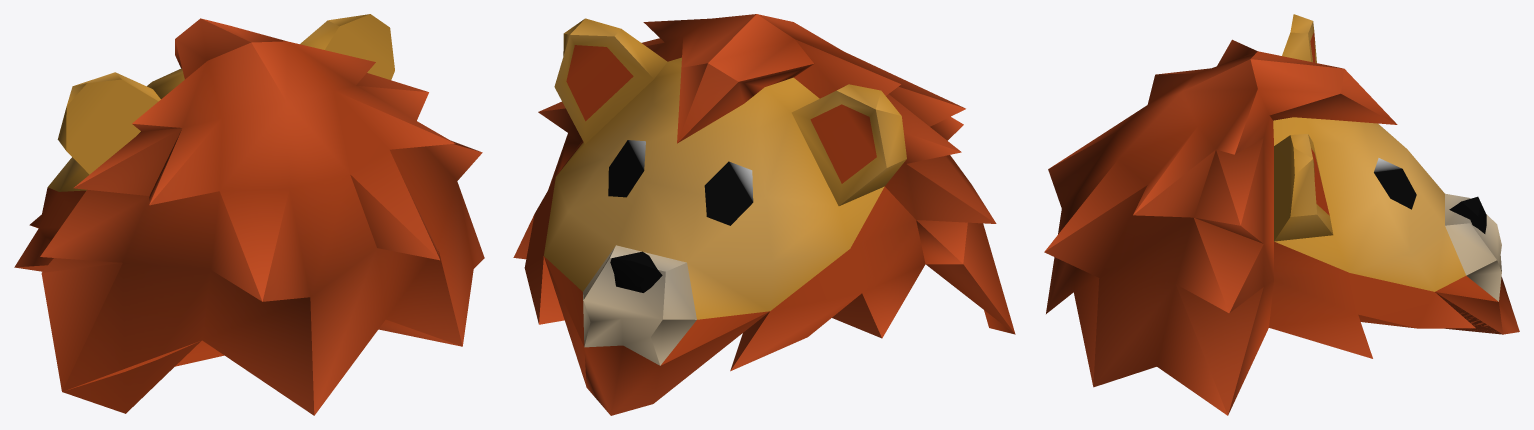
File: hat_lion.glb
The picture shows the model from 3 angles, left to right: view 1: azimuth 30°, elevation 25°; view 2: azimuth 150°, elevation 25°; view 3: azimuth 270°, elevation 25°; orthographic projection. The views are drawn at different scales.
Parts seen in each view (by area): view 1: hat_lion; view 2: hat_lion; view 3: hat_lion.
Part boxes in pixels (x1,y1,x2,y2): hat_lion: [14, 14, 484, 415]; hat_lion: [513, 14, 1015, 415]; hat_lion: [1044, 14, 1519, 415].
Size of the model in its own units: 0.5175 by 0.3282 by 0.4992.
